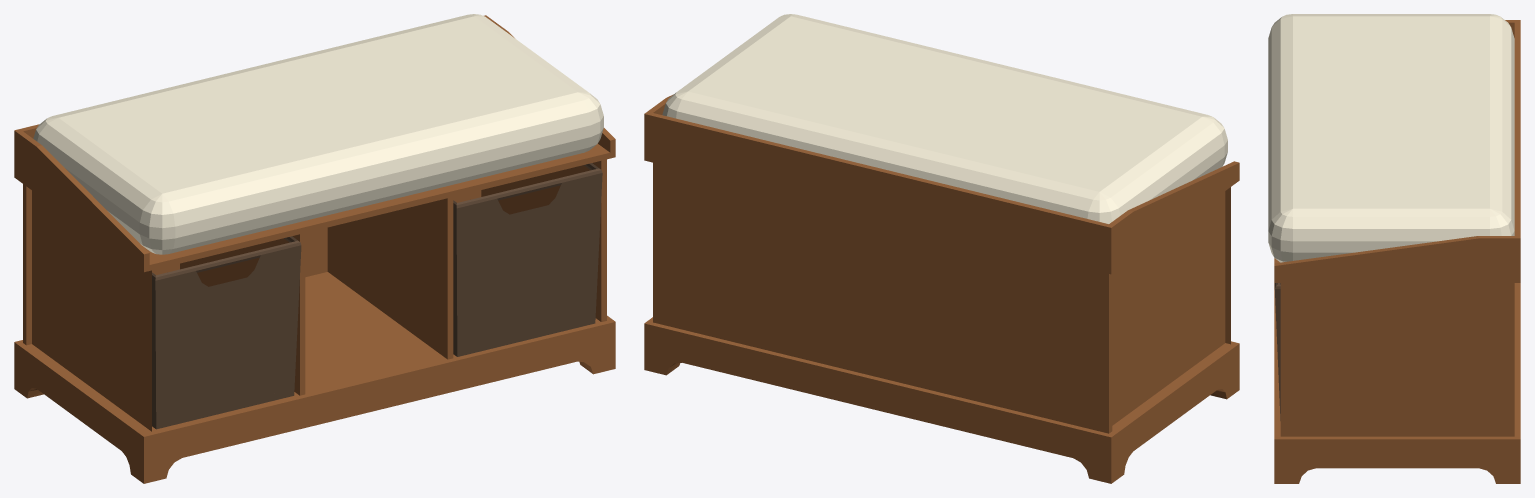
Rendered from seat-by-cmht-oculus-61e8A1fF7Pc.glb.
3 renders of one model, left to right at view 1: azimuth 30°, elevation 25°; view 2: azimuth 150°, elevation 25°; view 3: azimuth 270°, elevation 25°, orthographic. The views are drawn at different scales.
Visible parts, largest first — view 1: Node; view 2: Node; view 3: Node.
Boxes of the visible parts, box(x1,y1,x2,y2) form: Node: box(14, 14, 615, 483); Node: box(644, 14, 1239, 483); Node: box(1268, 14, 1520, 483).
Size of the model in its own units: 42 by 23.5 by 20.5.
